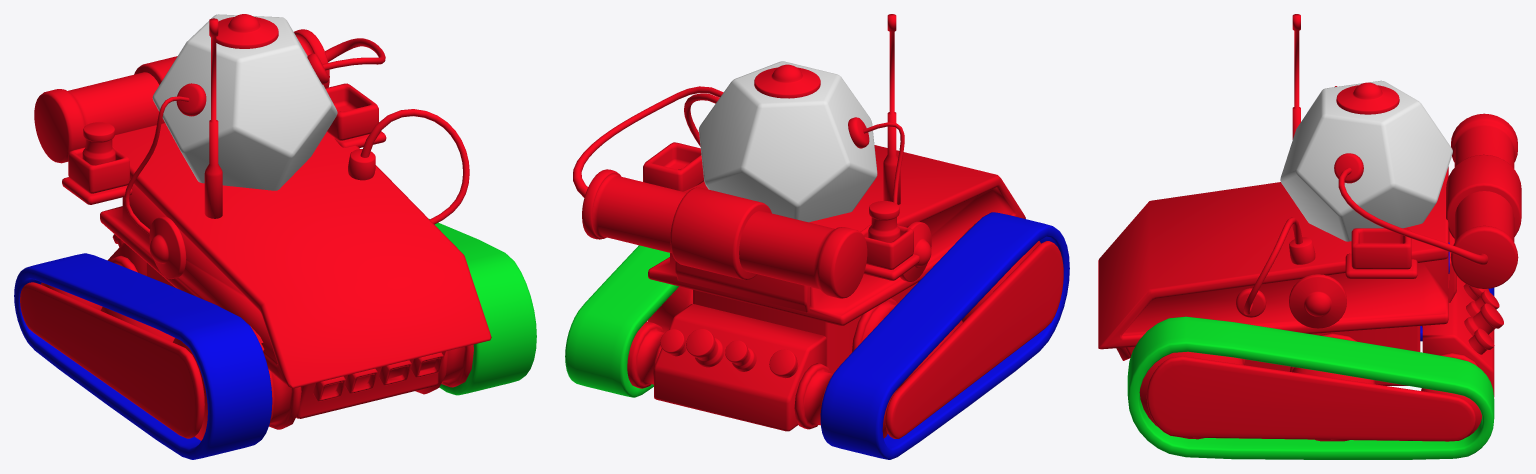
The model's file is SK_DROBOT_MAIN_BODY.fbx.
The picture shows the model from 3 angles, left to right: view 1: azimuth 30°, elevation 25°; view 2: azimuth 150°, elevation 25°; view 3: azimuth 270°, elevation 25°; orthographic projection. The views are drawn at different scales.
Parts seen in each view (by area): view 1: MAIN_BODY; view 2: MAIN_BODY; view 3: MAIN_BODY.
Part boxes in pixels (bbox=[...]): MAIN_BODY: bbox=[14, 14, 536, 459]; MAIN_BODY: bbox=[565, 14, 1069, 459]; MAIN_BODY: bbox=[1098, 14, 1521, 459].
Bounding box in the file's own units: 87.5 × 93.33 × 105.
